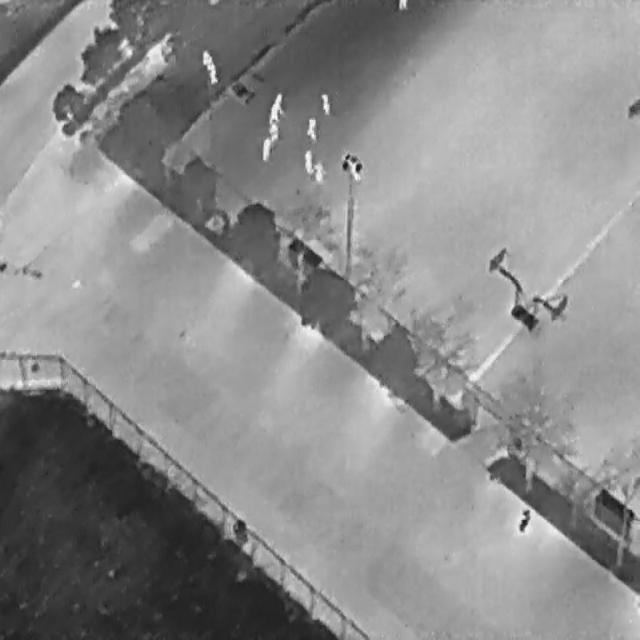Bicycle: (513, 505, 533, 533)
Person: (258, 134, 272, 162), (319, 88, 331, 114), (313, 160, 325, 182), (303, 148, 313, 174), (305, 115, 315, 139), (272, 90, 283, 111), (267, 104, 278, 125), (268, 124, 278, 140), (396, 0, 408, 9)
